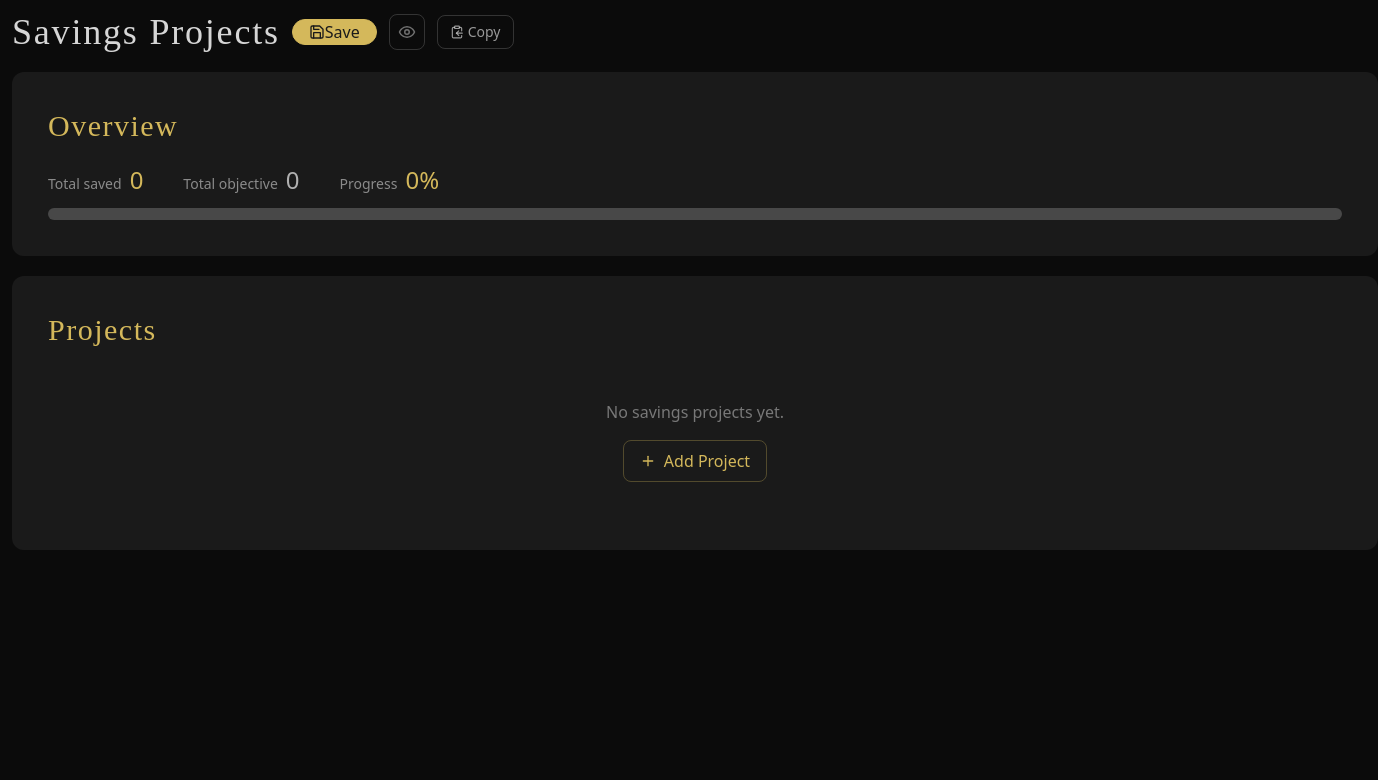
Test: SpForm › adds a new project when Add Project is clicked
Click the button "Add Project" at (695, 461), box [623,440,767,482]
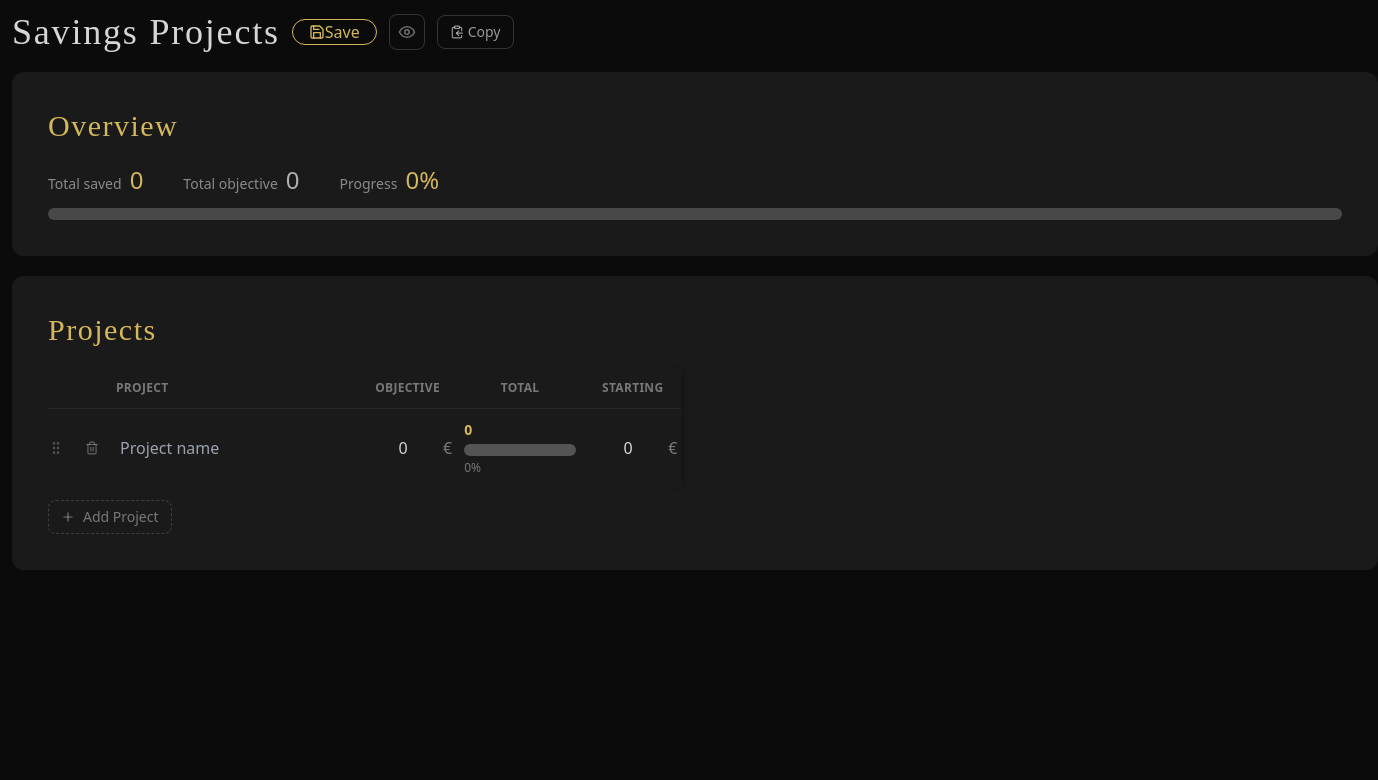
Expected: the text "No savings projects yet." is gone
